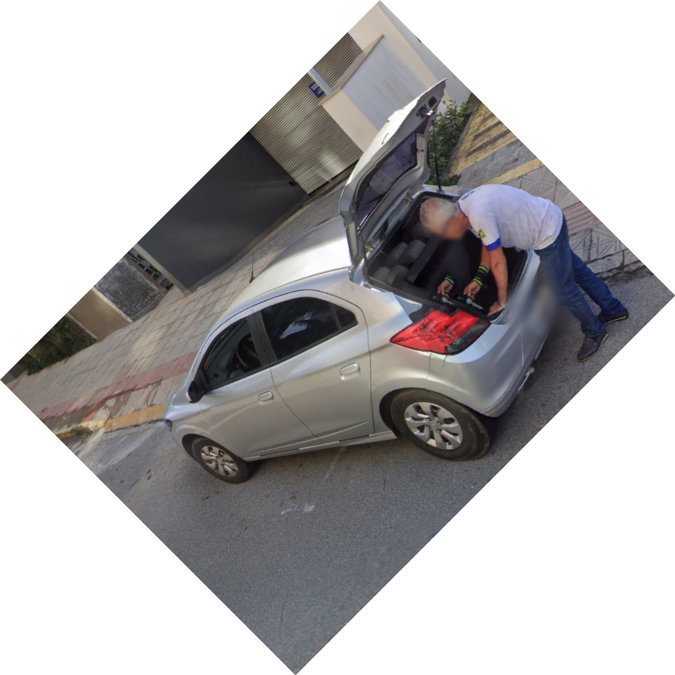car: (164, 183, 559, 482)
